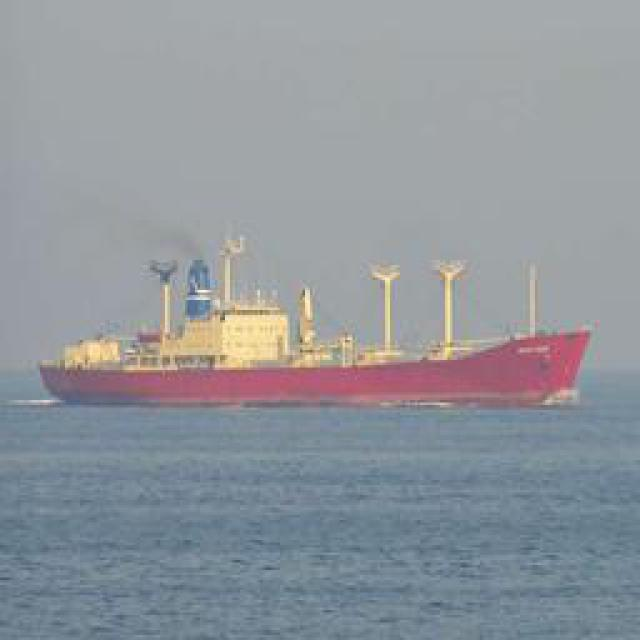Ship: (44, 255, 599, 413)
